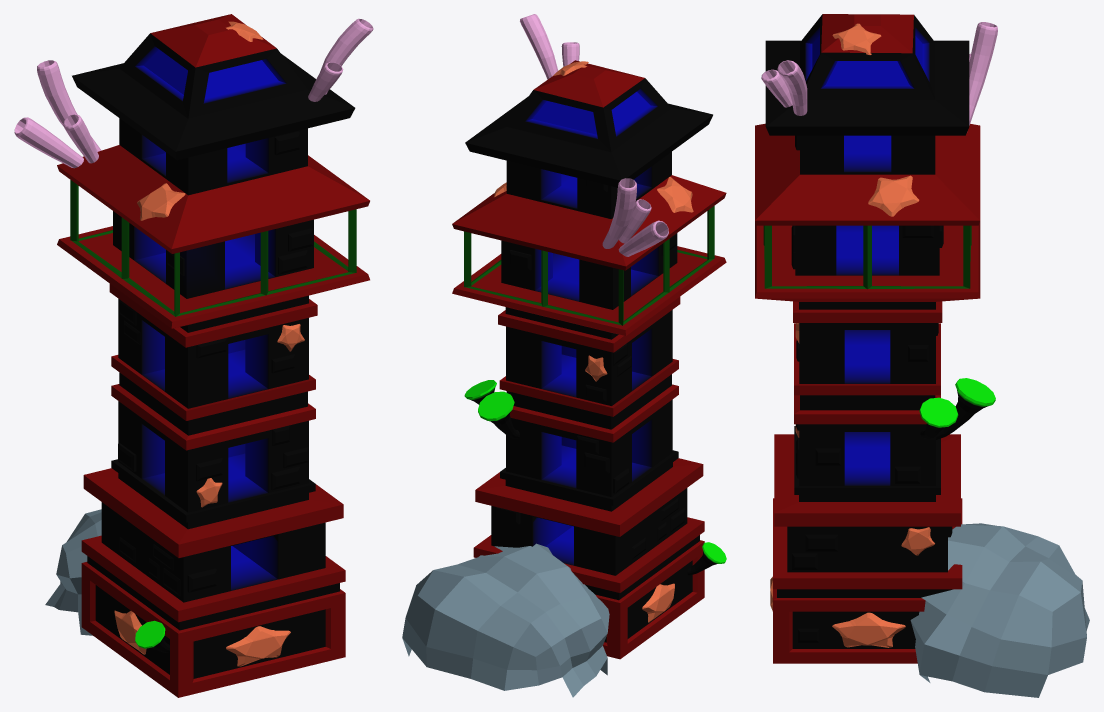
Rendered from TowerStar.fbx.
The picture shows the model from 3 angles, left to right: view 1: azimuth 30°, elevation 25°; view 2: azimuth 150°, elevation 25°; view 3: azimuth 270°, elevation 25°; orthographic projection. The views are drawn at different scales.
Parts seen in each view (by area): view 1: Bottom, TubeCoralRoof1.001, Torus.006, Cube, TableCoral2; view 2: Bottom, Cube, TubeCoralRoof1.001, TableCoral2, Torus.006; view 3: Bottom, Cube, Torus.006, TubeCoralRoof1.001, TableCoral2.
Part boxes in pixels (x1,y1,x2,y2): Bottom: [57, 14, 369, 697]; TubeCoralRoof1.001: [14, 18, 373, 168]; Torus.006: [114, 21, 304, 666]; Cube: [45, 509, 101, 635]; TableCoral2: [135, 620, 169, 652]; Bottom: [452, 60, 726, 659]; Cube: [402, 543, 609, 697]; TubeCoralRoof1.001: [520, 14, 668, 256]; TableCoral2: [464, 380, 726, 575]; Torus.006: [494, 61, 693, 622]; Bottom: [755, 14, 980, 663]; Cube: [910, 523, 1089, 697]; Torus.006: [770, 23, 934, 647]; TubeCoralRoof1.001: [761, 22, 997, 125]; TableCoral2: [919, 378, 995, 439].
Bounding box in the file's own units: 4.33 × 4.64 × 9.69.
